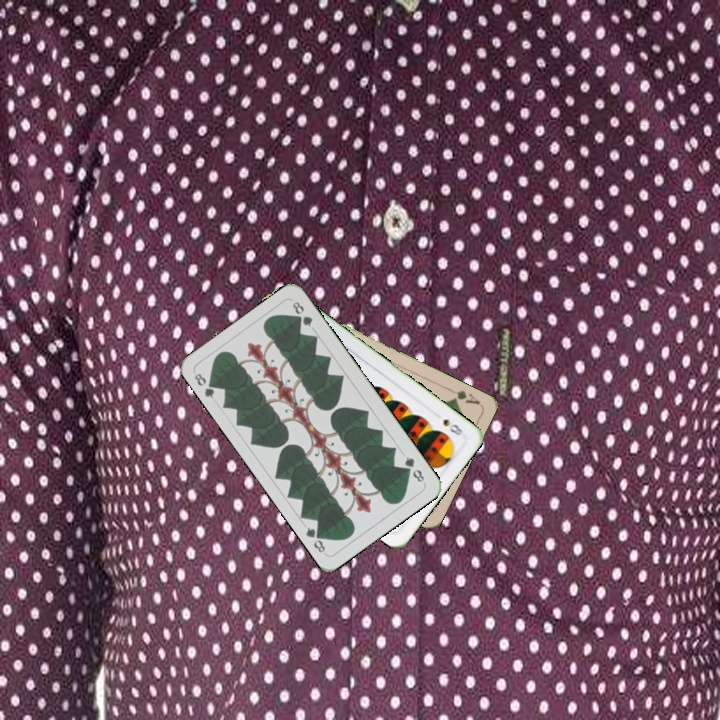G8: (190, 369, 220, 401), (400, 452, 427, 486)
GA: (444, 384, 482, 407)
S8: (439, 415, 466, 438)
